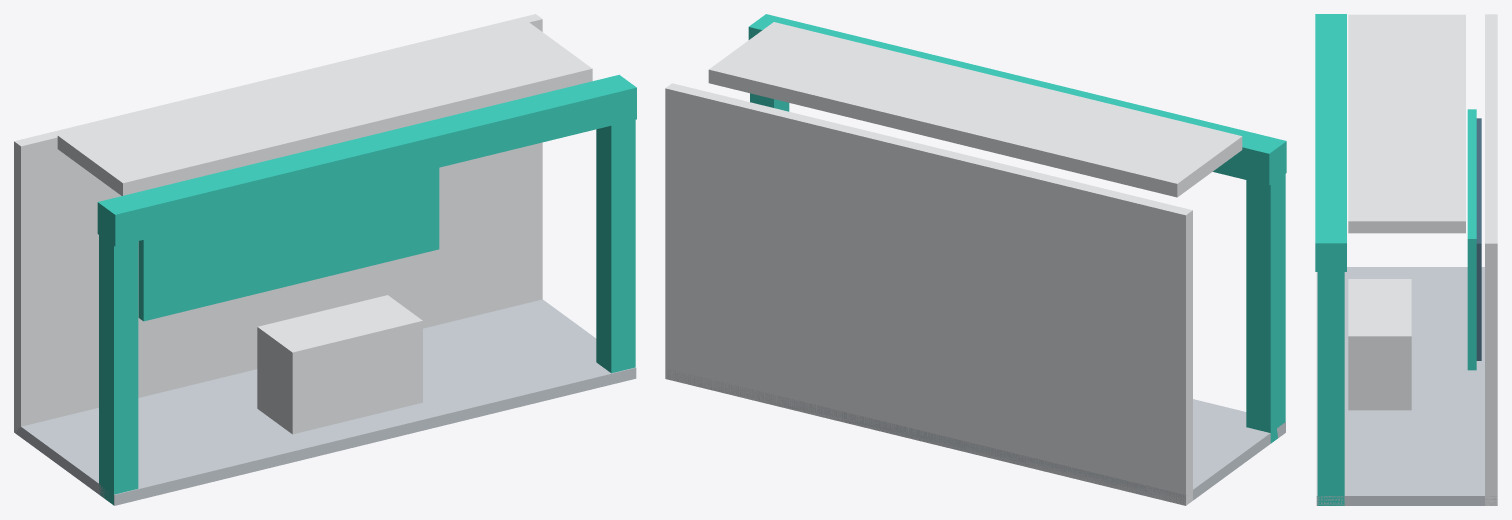
3 views of the same model, side by side, from view 1: azimuth 30°, elevation 25°; view 2: azimuth 150°, elevation 25°; view 3: azimuth 270°, elevation 25° (orthographic). The views are drawn at different scales.
Visible parts, largest first — view 1: Exhibition Booth Concept; view 2: Exhibition Booth Concept; view 3: Exhibition Booth Concept.
Boxes of the visible parts, left/top/right/bottom form: Exhibition Booth Concept: left=14, top=14, right=636, bottom=505; Exhibition Booth Concept: left=665, top=14, right=1286, bottom=505; Exhibition Booth Concept: left=1315, top=14, right=1497, bottom=505.
Size of the model in its own units: 6 by 3.34 by 2.01.
